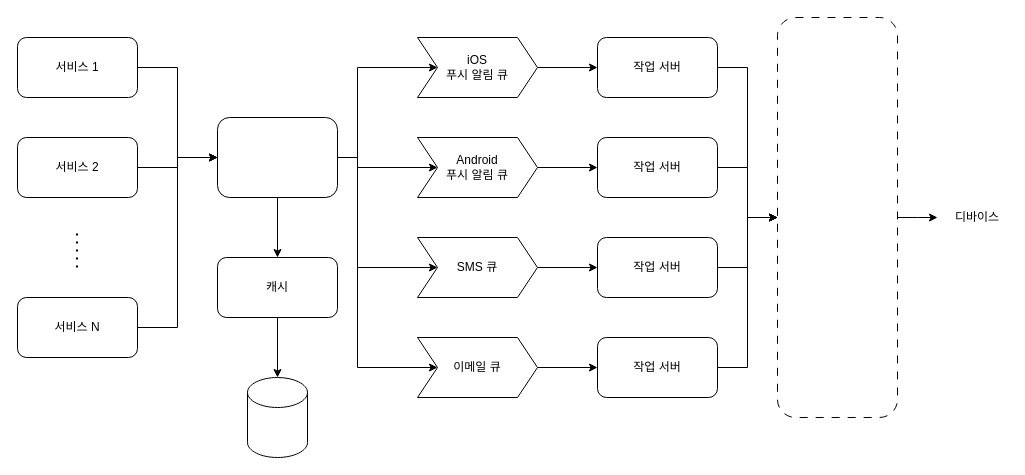
Some shapes in this 1025 by 475 pixel diagram are drawn without their labels. Each missing label, with the centre of its shape:
"DB" belongs at (277,417).
"알림 서버" belongs at (277,157).
"제3자 제공 서비스" belongs at (837,217).
